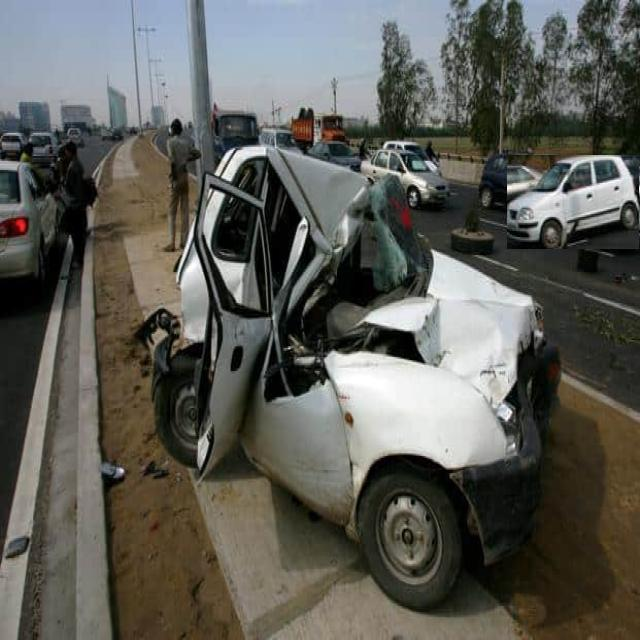accident: (148, 150, 542, 608)
car: (508, 156, 639, 249), (361, 150, 449, 207)
